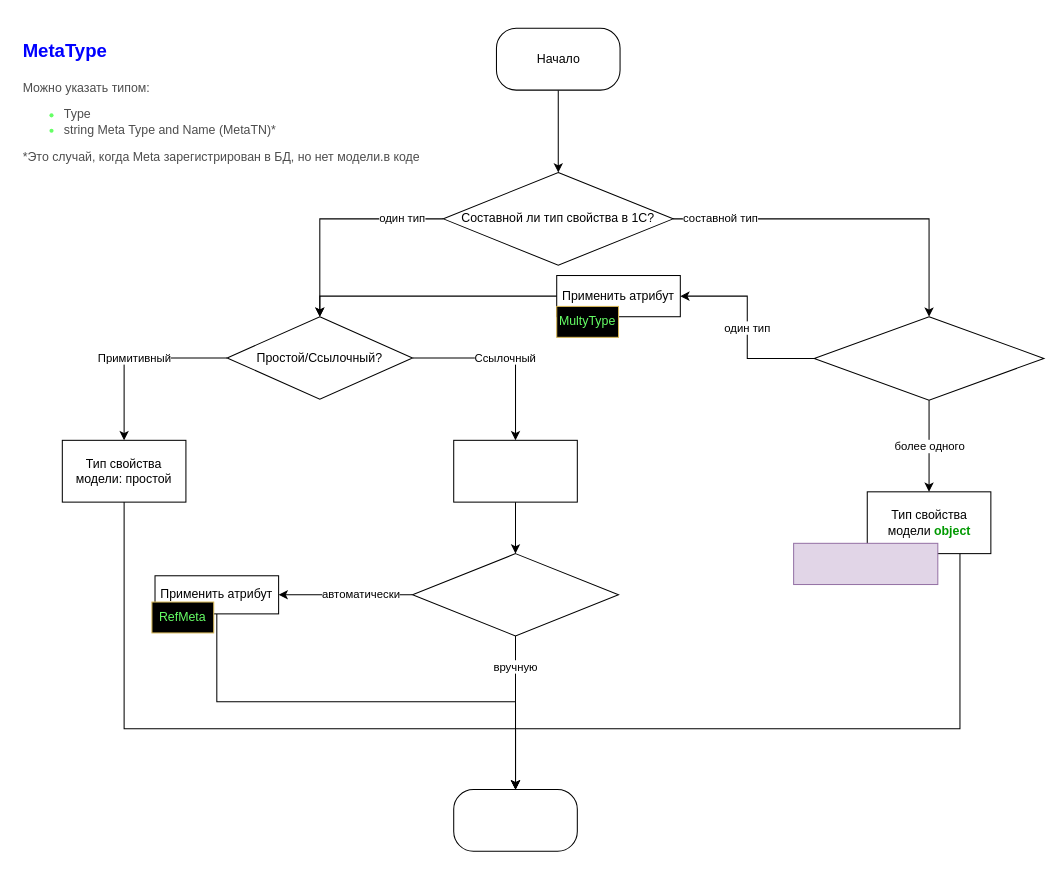
Some shapes in this 1062 by 869 pixel diagram are drawn without their labels. Here are the shapes that lost their labels. From the top down, the centre of each, then its label:
the point at 928,358: Присваиваться в решении будет:
the point at 515,470: Тип свойства модели IRefInst
the point at 865,563: Присвоение только в обработчике
the point at 515,594: Создание IRefInst:
the point at 515,819: Конец
